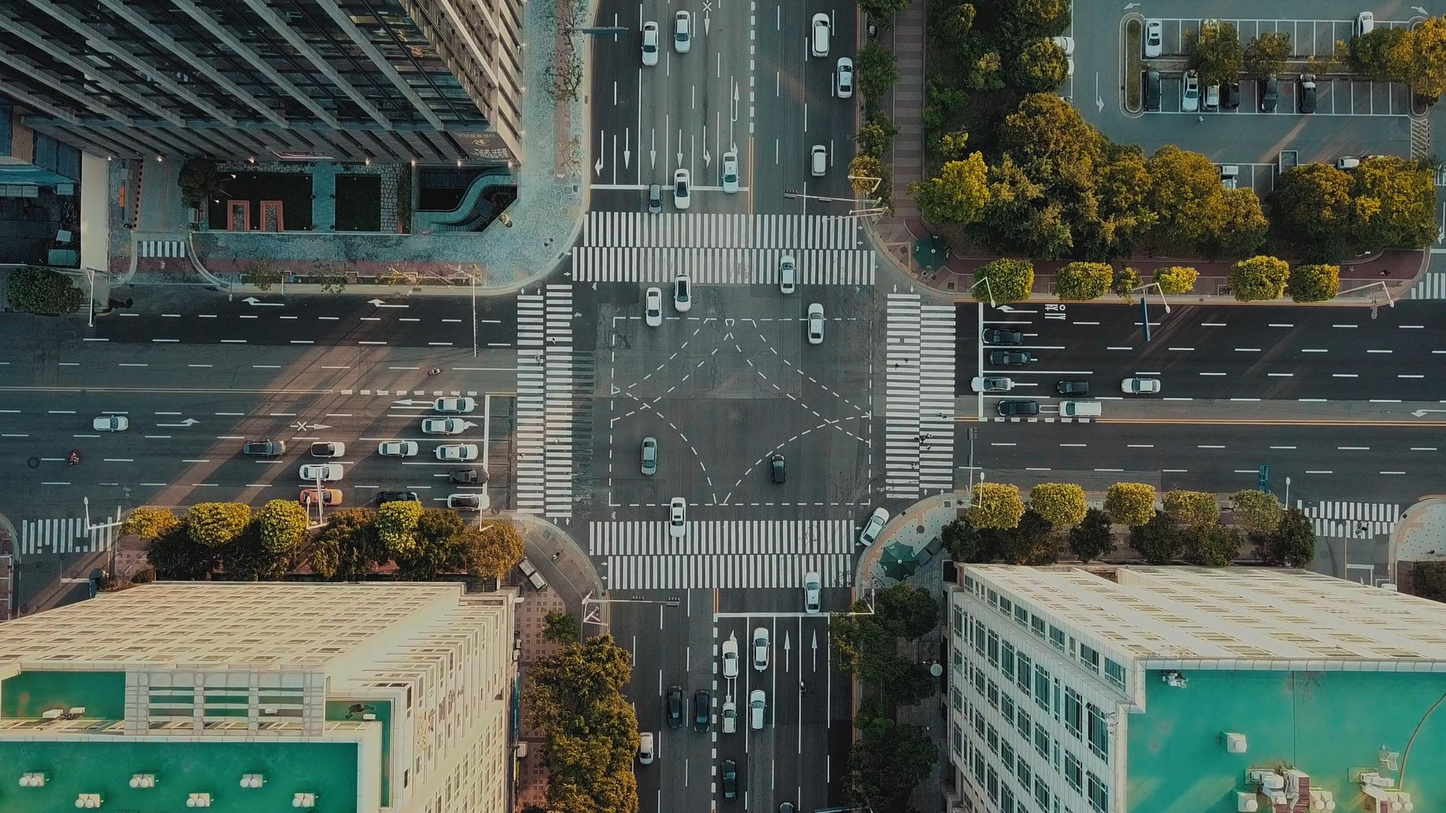car: (859, 507, 890, 547), (811, 13, 831, 57), (719, 759, 739, 802), (1297, 71, 1317, 114), (641, 20, 659, 67), (673, 10, 692, 54), (1142, 68, 1161, 112), (243, 439, 286, 458), (447, 493, 490, 512), (752, 627, 771, 670), (721, 151, 740, 194), (1057, 400, 1102, 418), (436, 443, 478, 462), (749, 690, 768, 732), (982, 327, 1024, 346), (421, 417, 465, 435), (996, 399, 1040, 417), (1120, 376, 1161, 395), (378, 439, 418, 458), (989, 349, 1031, 367), (666, 685, 683, 729), (693, 690, 710, 734), (644, 287, 663, 326), (449, 468, 490, 486), (673, 168, 691, 209), (836, 57, 854, 98), (804, 571, 821, 614), (673, 274, 692, 312), (807, 303, 824, 345), (1143, 19, 1161, 58), (434, 396, 475, 413), (669, 497, 686, 537), (722, 640, 739, 679), (640, 437, 657, 476), (970, 376, 1011, 392), (310, 440, 346, 458), (779, 256, 796, 294), (93, 415, 129, 432), (1056, 379, 1090, 396), (720, 702, 738, 734), (771, 453, 787, 485), (811, 144, 827, 176), (647, 184, 663, 214)
